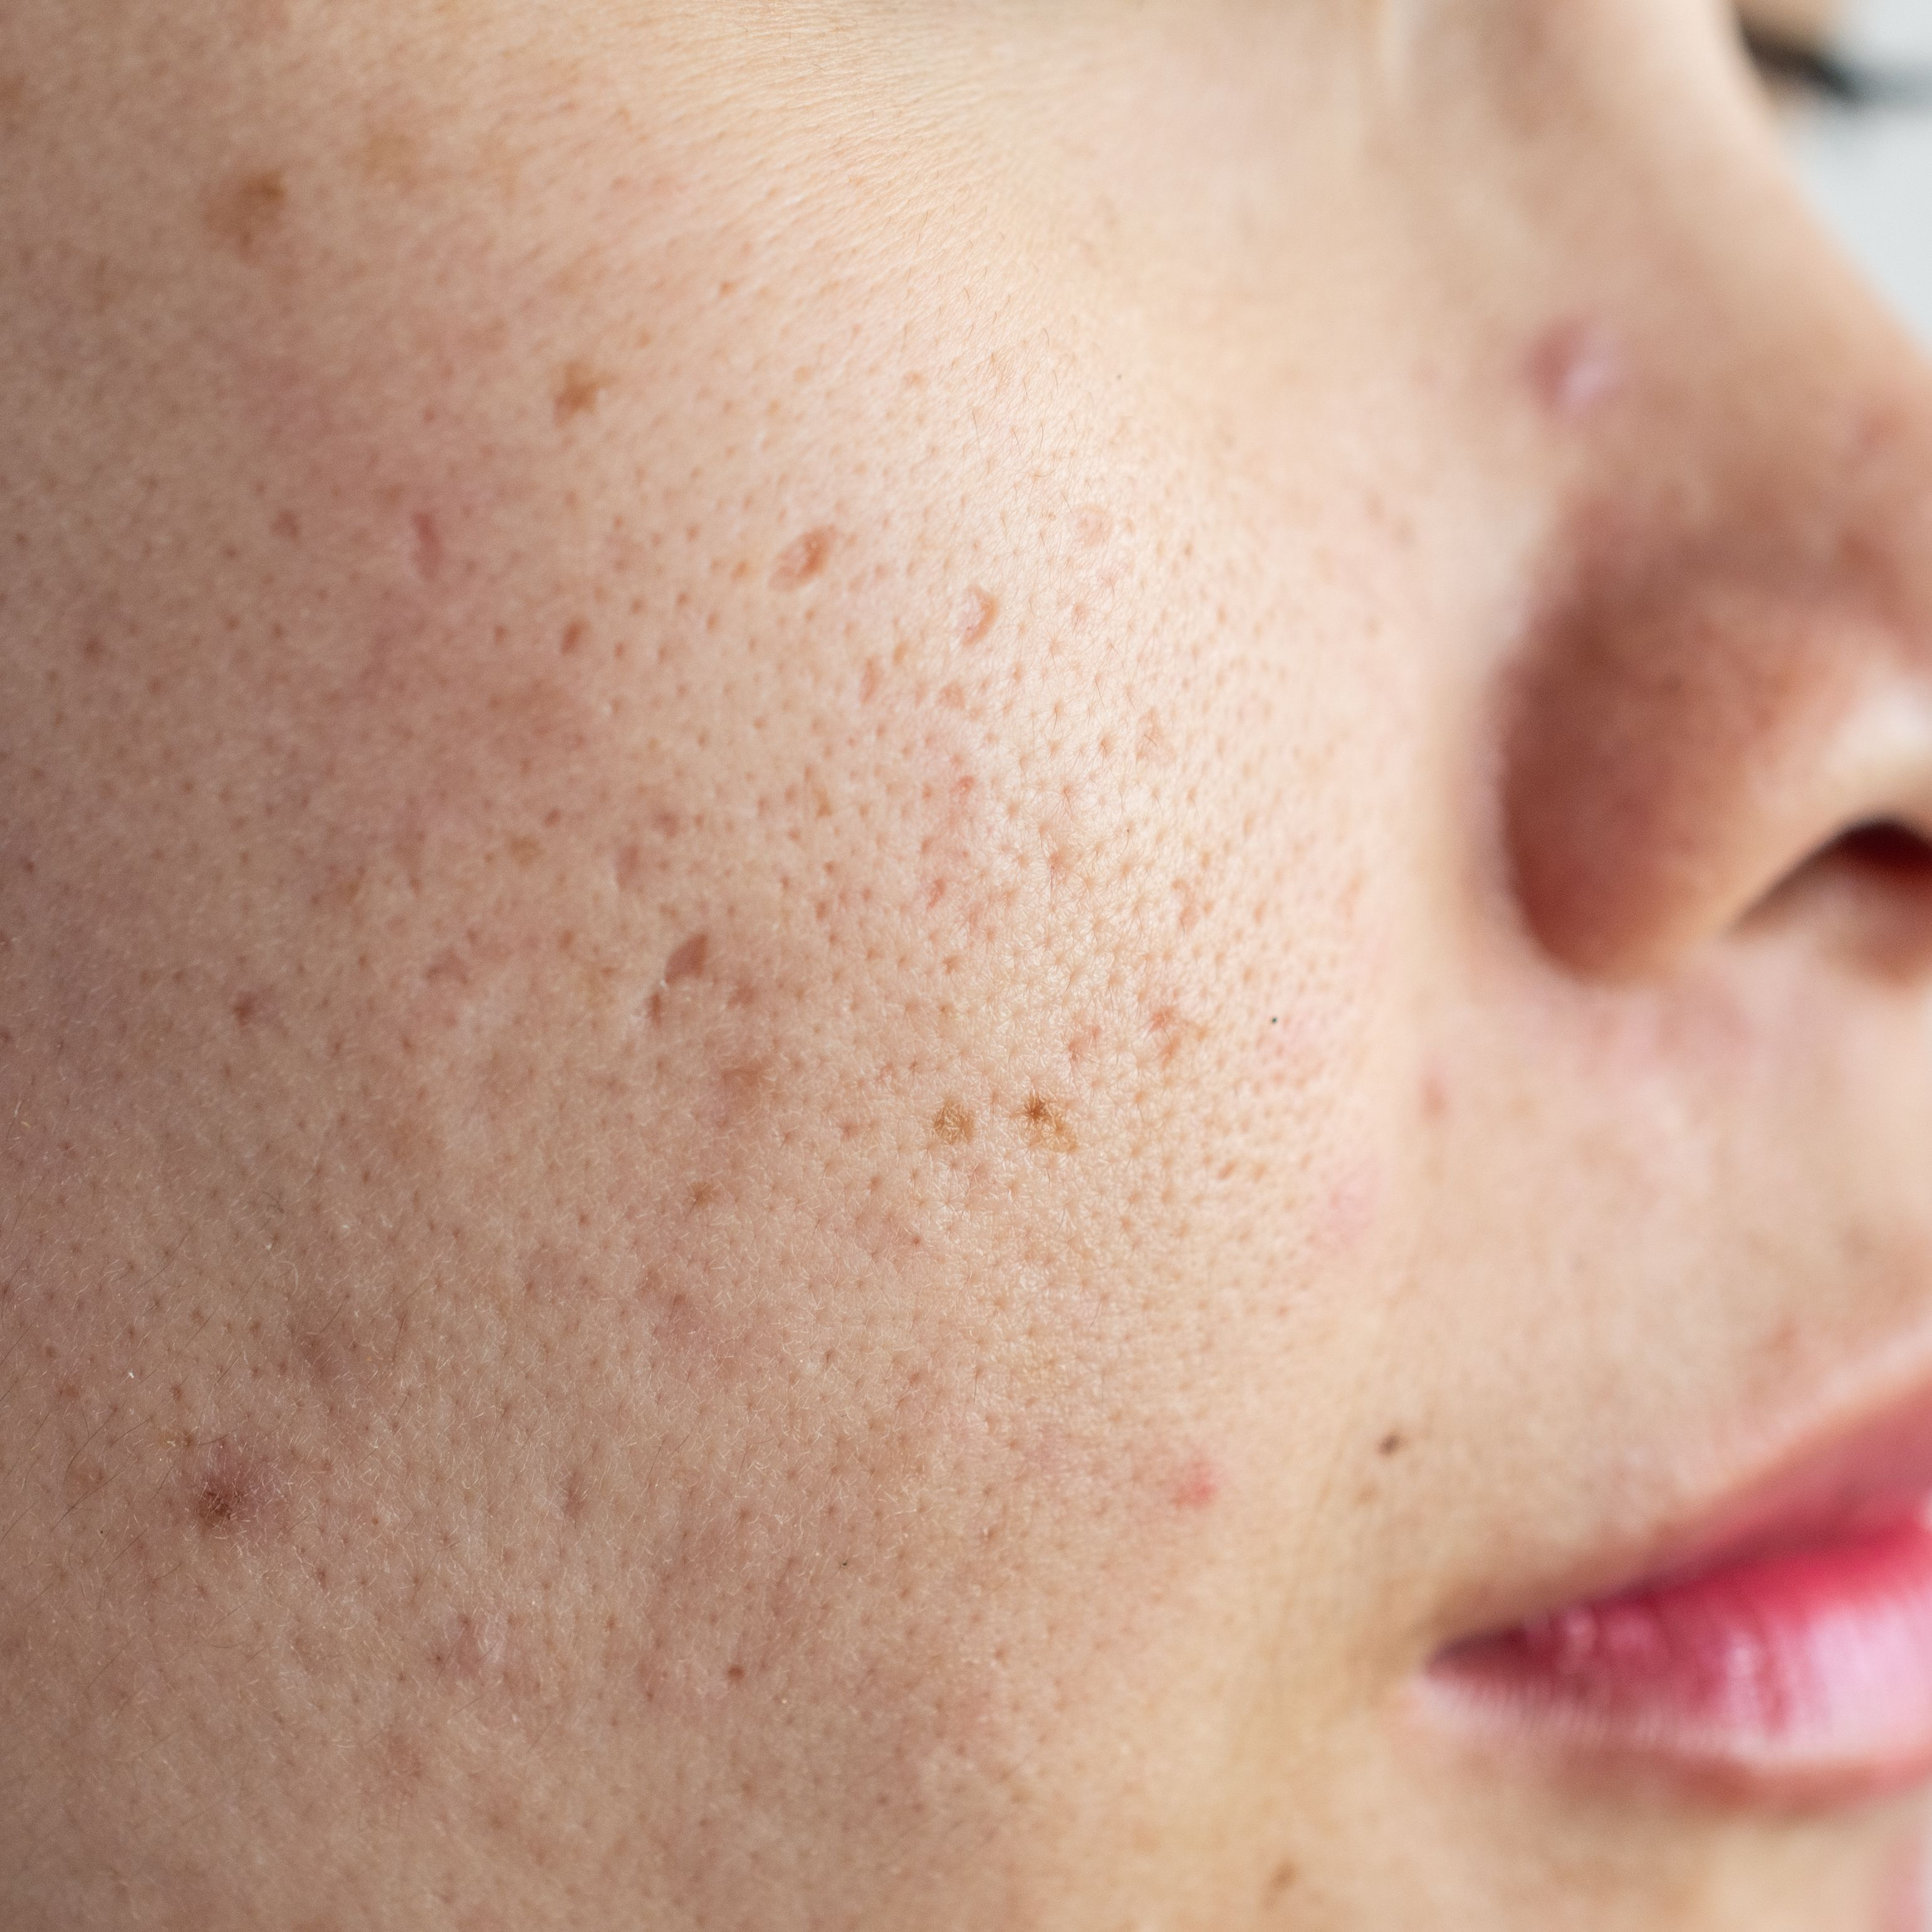jerawat: (43, 24, 1449, 1932)
